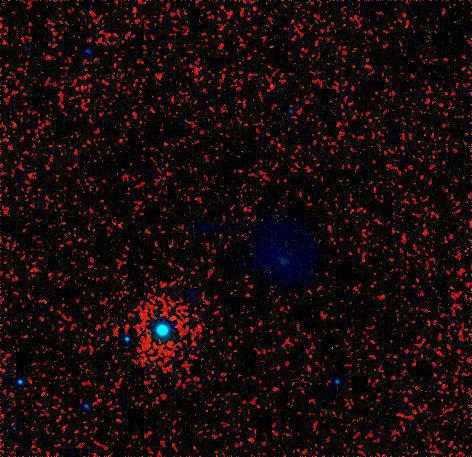star: (143, 63, 173, 93)
